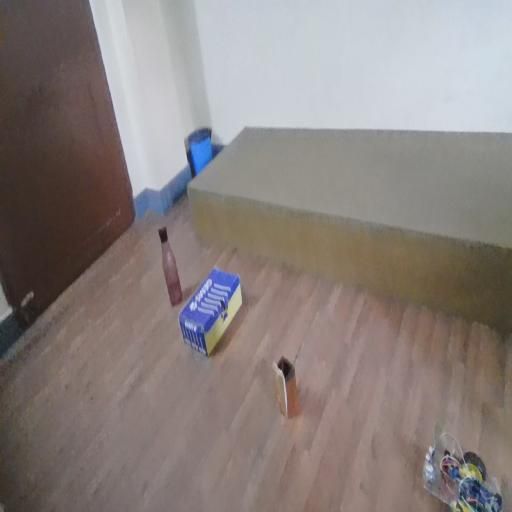Bottle: (153, 216, 193, 306)
